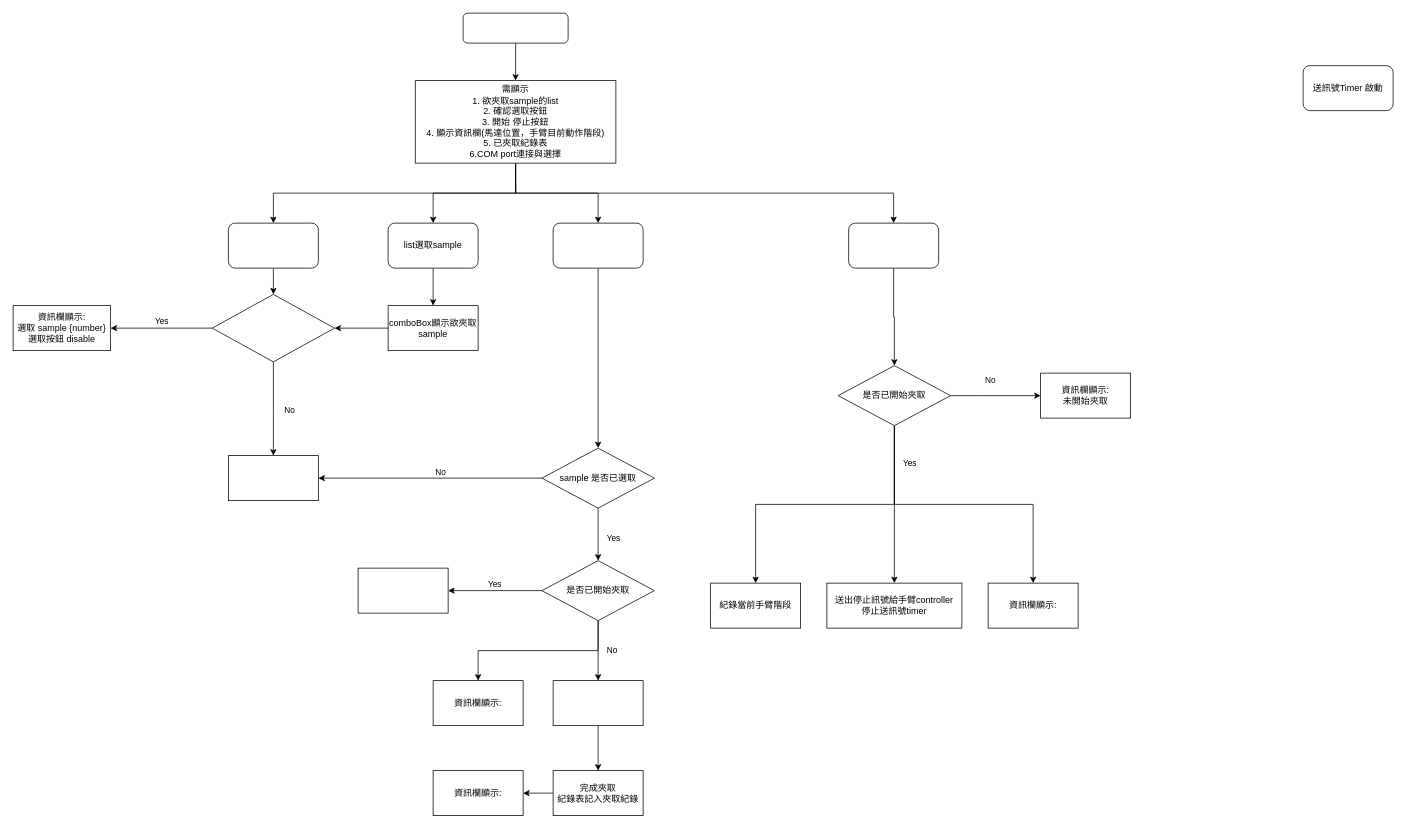
Some shapes in this 1406 by 829 pixel diagram are drawn without their labels. The centre of each missing label's shape, as x and y in pixels:
"comboBox是否有值" goes at pixel 273 328.
"停止" goes at pixel 893 245.
"啟動送訊號timer" goes at pixel 597 703.
"確認選取按鈕" goes at pixel 273 245.
"資訊欄顯示: 夾取進行中..." goes at pixel 402 590.
"資訊欄顯示: 未選取sample" goes at pixel 273 478.
"進入控制手臂程式介面" goes at pixel 515 27.
"開始" goes at pixel 597 245.
